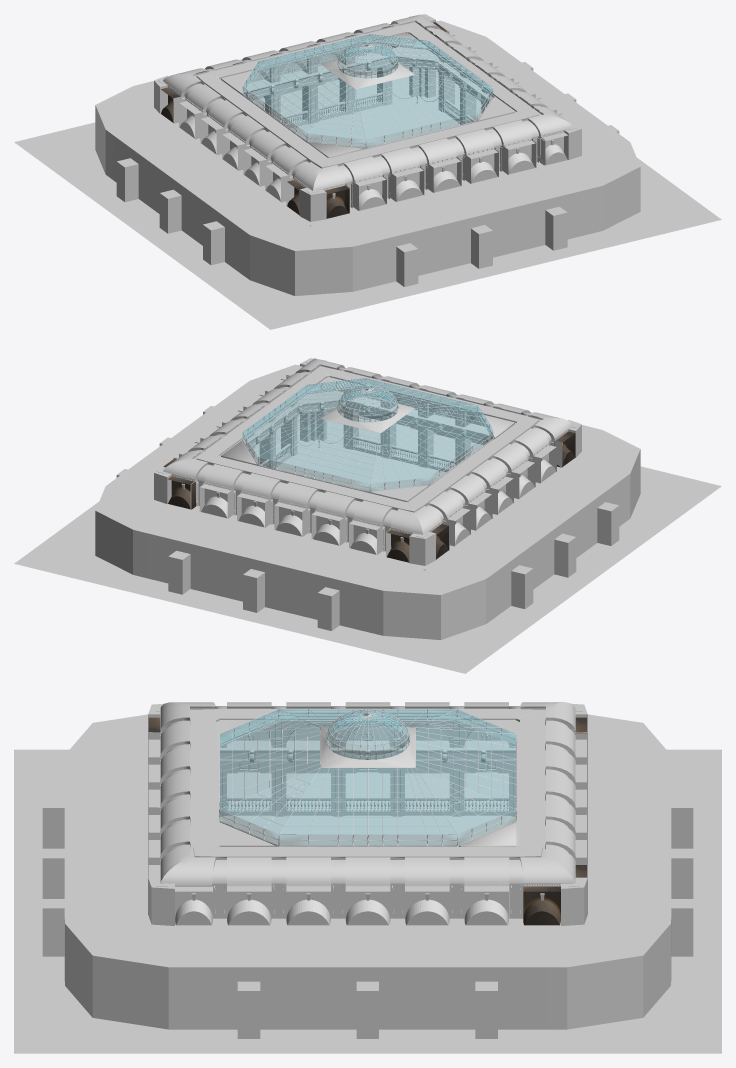
Rendered from Museum_NOtextures.gltf.
The picture shows the model from 3 angles, top to bottom: view 1: azimuth 30°, elevation 25°; view 2: azimuth 150°, elevation 25°; view 3: azimuth 270°, elevation 25°; orthographic projection. The views are drawn at different scales.
Visible parts, largest first — view 1: Plane.027, Plane.001, Plane.004, Plane, Cube, Plane.019, Plane.002, Plane.003, Plane.121, Plane.030, Plane.120, Plane.029 (+18 smaller); view 2: Plane.027, Plane.001, Plane.004, Plane, Cube, Plane.019, Plane.002, Plane.003, Plane.121, Plane.030, Plane.120, Plane.016 (+13 smaller); view 3: Plane.027, Plane.001, Plane.004, Cube, Plane, Plane.019, Plane.002, Plane.003, Plane.121, Plane.120, Plane.030, Plane.016 (+20 smaller).
Part boxes in pixels (left/top/right/bottom): Plane.027: left=95, top=20, right=640, bottom=295; Plane.001: left=14, top=68, right=721, bottom=329; Plane.004: left=243, top=34, right=492, bottom=139; Plane: left=193, top=20, right=543, bottom=168; Cube: left=138, top=46, right=598, bottom=228; Plane.019: left=163, top=14, right=572, bottom=190; Plane.002: left=154, top=14, right=581, bottom=226; Plane.003: left=243, top=34, right=492, bottom=139; Plane.121: left=258, top=99, right=475, bottom=181; Plane.030: left=242, top=35, right=493, bottom=147; Plane.120: left=280, top=80, right=487, bottom=151; Plane.029: left=242, top=34, right=493, bottom=148; Plane.027: left=95, top=364, right=640, bottom=639; Plane.001: left=14, top=412, right=721, bottom=673; Plane.004: left=243, top=378, right=492, bottom=483; Plane: left=192, top=364, right=542, bottom=512; Cube: left=138, top=390, right=597, bottom=571; Plane.019: left=163, top=358, right=572, bottom=534; Plane.002: left=154, top=358, right=581, bottom=570; Plane.003: left=243, top=378, right=492, bottom=483; Plane.121: left=290, top=449, right=474, bottom=518; Plane.030: left=242, top=379, right=493, bottom=491; Plane.120: left=258, top=433, right=454, bottom=477; Plane.016: left=194, top=367, right=551, bottom=526; Plane.027: left=42, top=714, right=693, bottom=1038; Plane.001: left=14, top=749, right=721, bottom=1053; Plane.004: left=220, top=709, right=515, bottom=833; Cube: left=117, top=736, right=617, bottom=940; Plane: left=190, top=707, right=545, bottom=859; Plane.019: left=160, top=702, right=575, bottom=885; Plane.002: left=148, top=703, right=587, bottom=925; Plane.003: left=219, top=709, right=516, bottom=834; Plane.121: left=231, top=825, right=509, bottom=915; Plane.120: left=220, top=803, right=515, bottom=825; Plane.030: left=220, top=710, right=515, bottom=845; Plane.016: left=166, top=706, right=569, bottom=883.
Size of the model in its own units: 41.4 by 12 by 40.74.
Materials: 3 (1 with a texture image).
